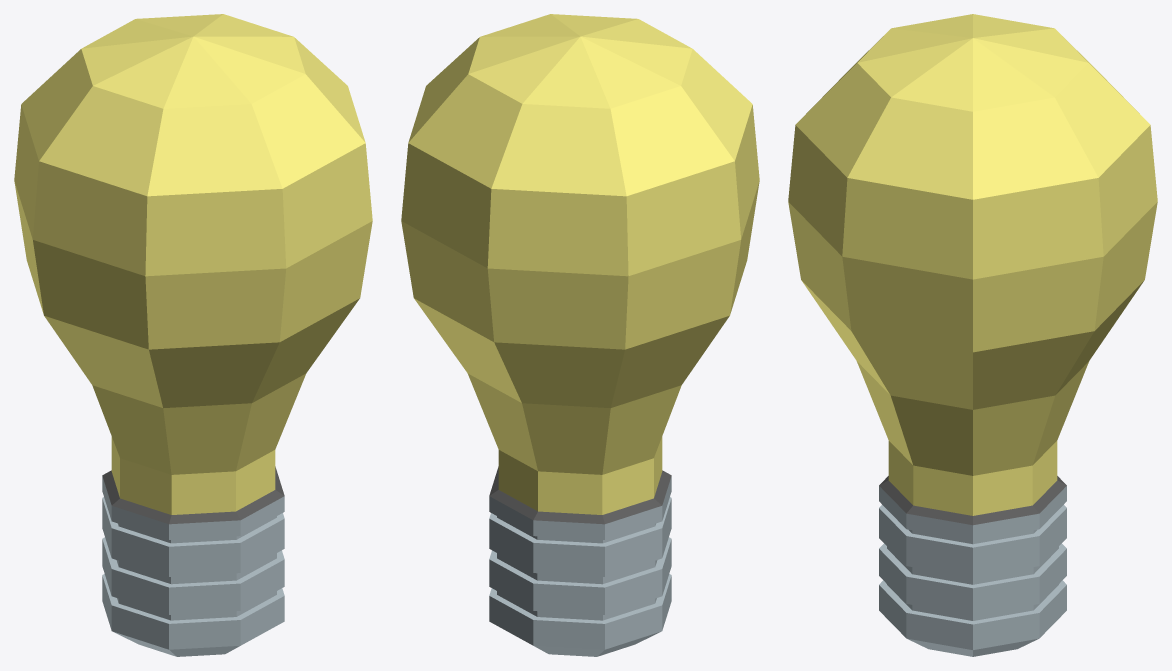
Rendered from light_bulb.fbx.
The picture shows the model from 3 angles, left to right: view 1: azimuth 30°, elevation 25°; view 2: azimuth 150°, elevation 25°; view 3: azimuth 270°, elevation 25°; orthographic projection.
Parts seen in each view (by area): view 1: Light_bulb_01_Circle.008; view 2: Light_bulb_01_Circle.008; view 3: Light_bulb_01_Circle.008.
Part boxes in pixels (box(x1,y1,x2,y2)): Light_bulb_01_Circle.008: box(14, 14, 372, 656); Light_bulb_01_Circle.008: box(401, 14, 759, 656); Light_bulb_01_Circle.008: box(788, 14, 1157, 656).
Bounding box in the file's own units: 108 × 197 × 108.
